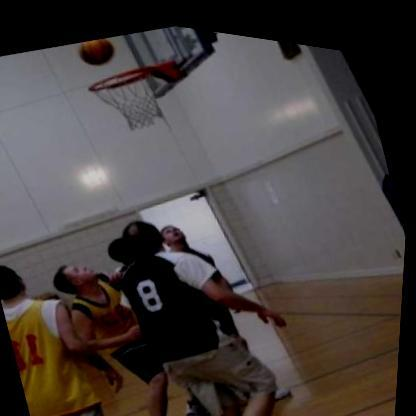basketball: (74, 29, 121, 71)
